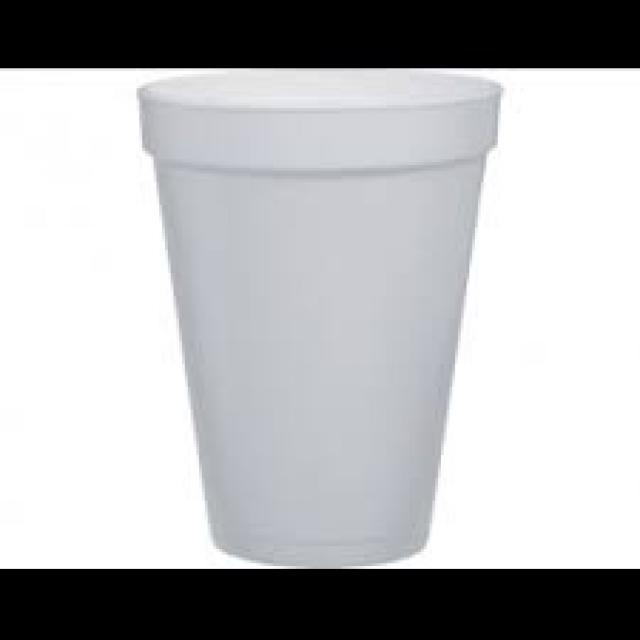trash: (134, 62, 498, 566)
